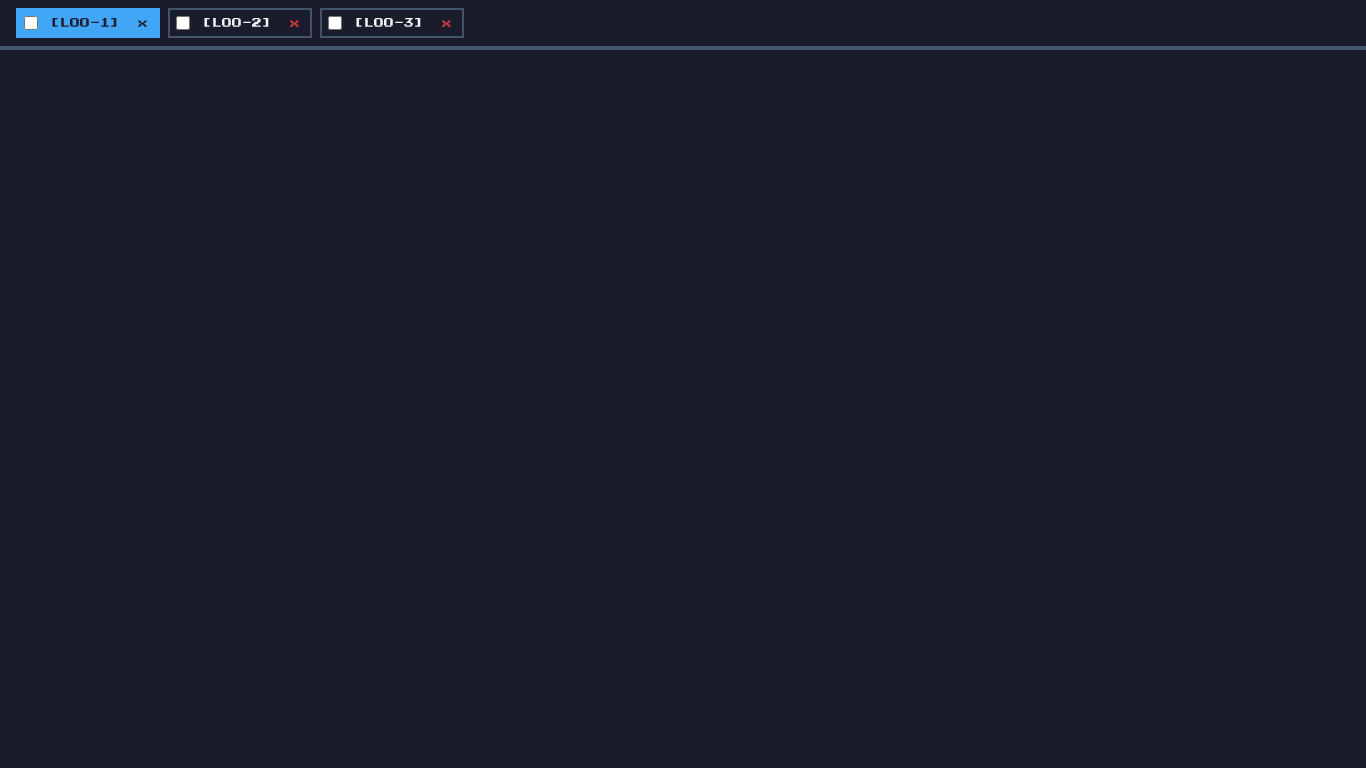
it: IssueTabs › closes dialog when cancel is clicked (cancel confirm)
This screenshot has width=1366, height=768.
Click the button with test id "delete-id-1": click(143, 23) top-left (132, 14), bottom-right (154, 32)
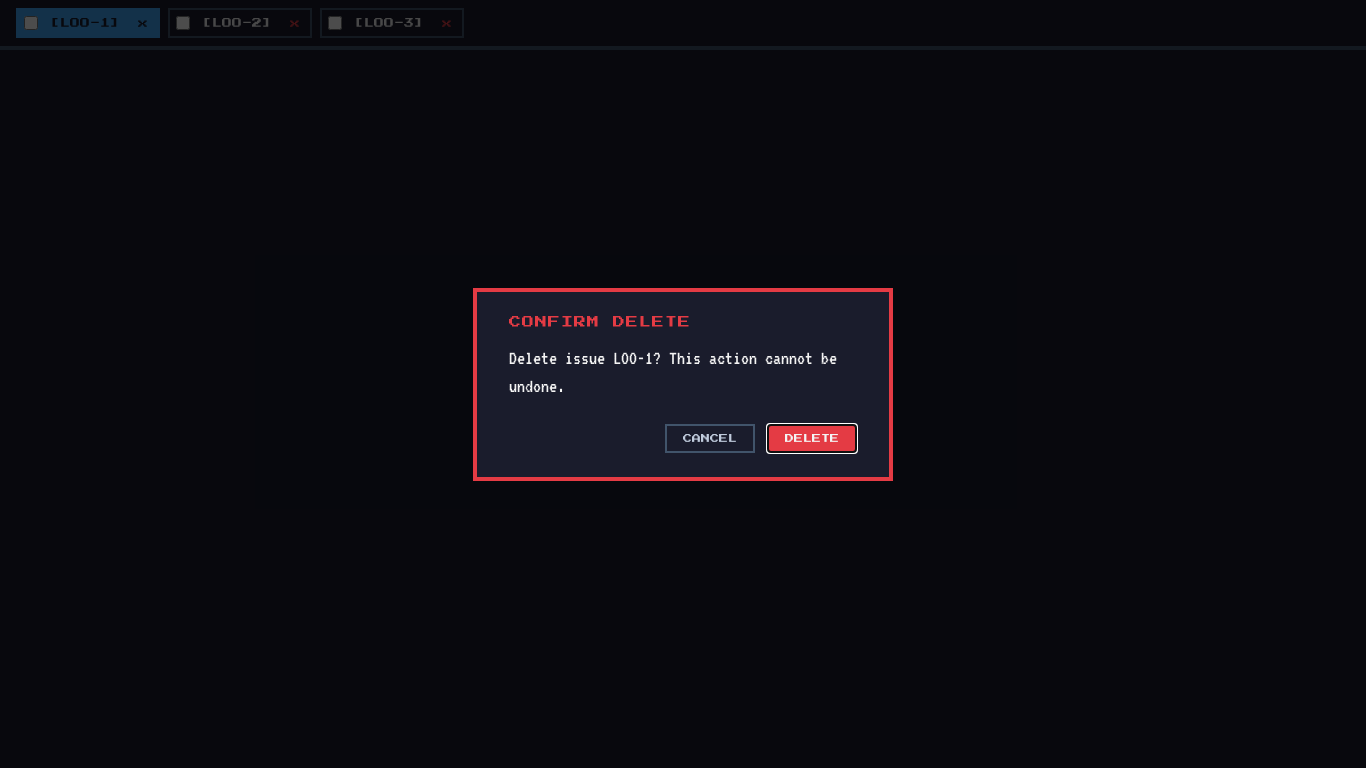
Check: the text "CONFIRM DELETE" is shown, box top-left (509, 316), bottom-right (691, 328)
Click the button "CANCEL": click(710, 438) top-left (665, 424), bottom-right (755, 452)
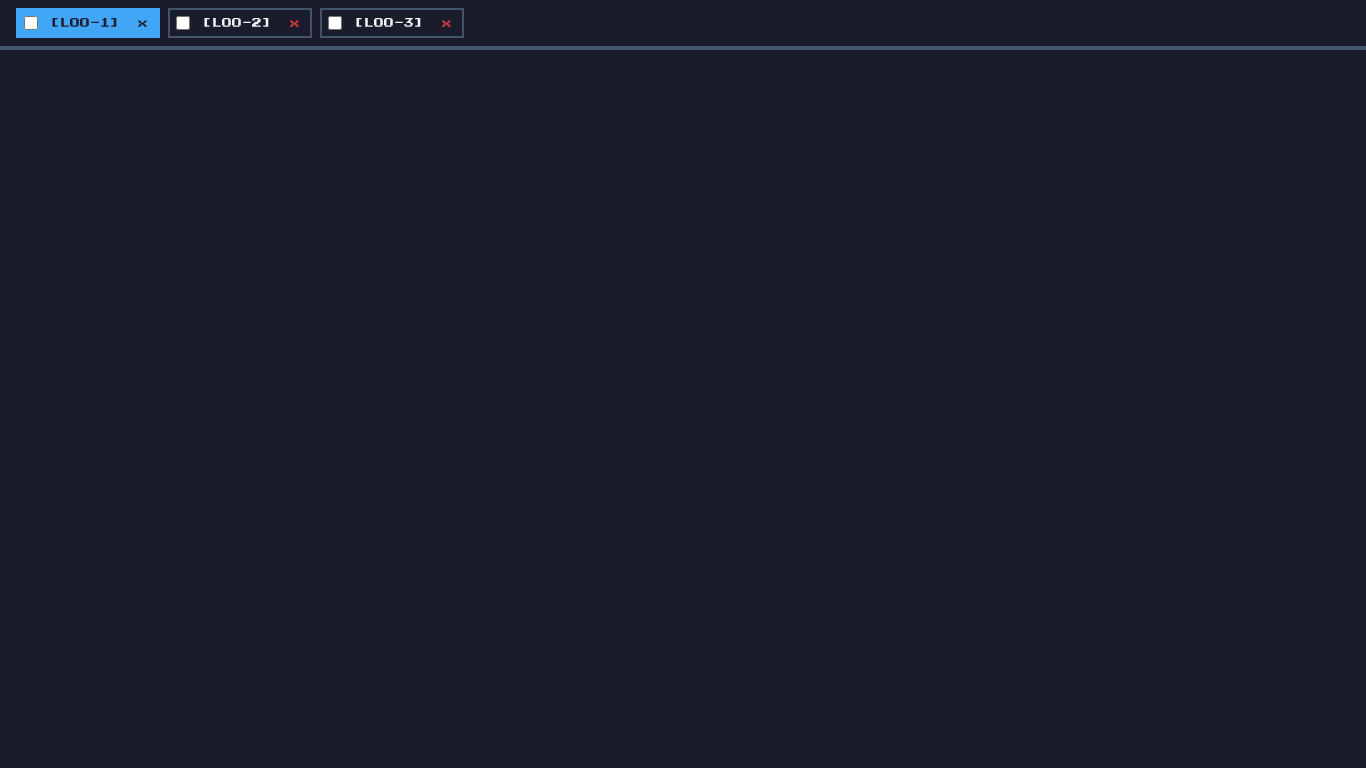
Check: the text "CONFIRM DELETE" is gone
